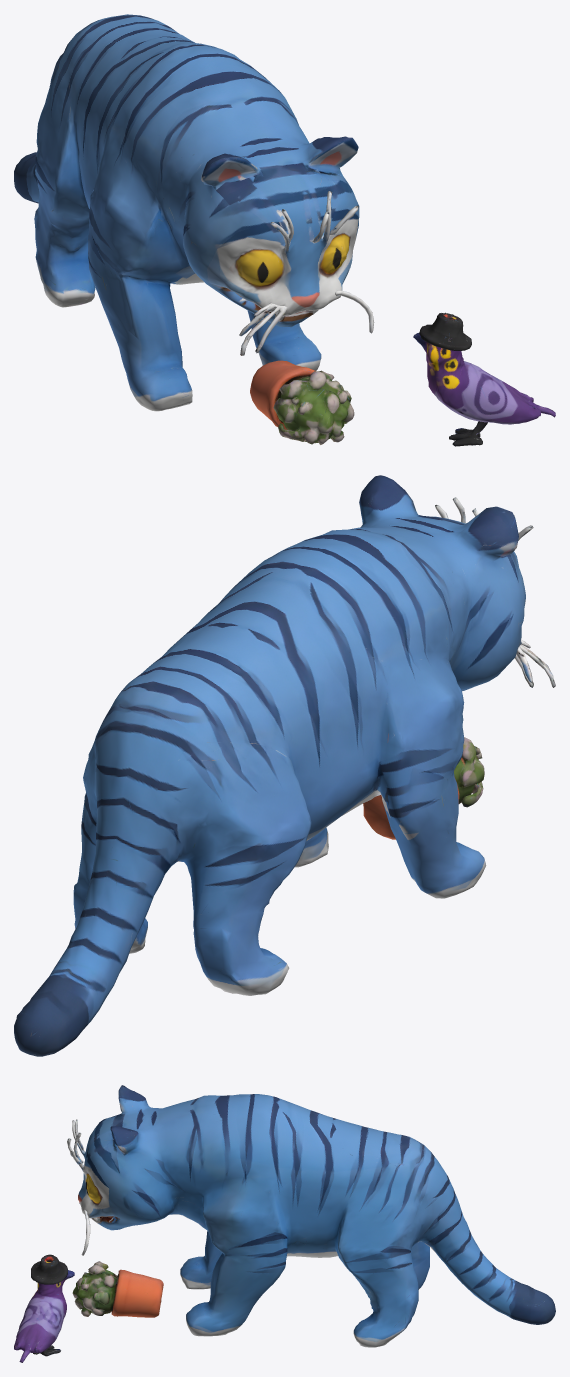
Rendered from bigjump.glb.
3 renders of one model, top to bottom at view 1: azimuth 30°, elevation 25°; view 2: azimuth 150°, elevation 25°; view 3: azimuth 270°, elevation 25°, orthographic. The views are drawn at different scales.
Size of the model in its own units: 0.8755 by 0.8672 by 2.
Materials: 1 (1 with a texture image).
